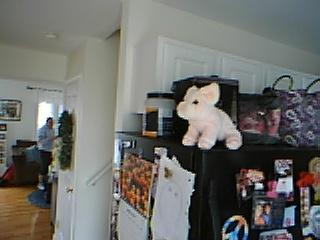piggy: (175, 81, 244, 151)
